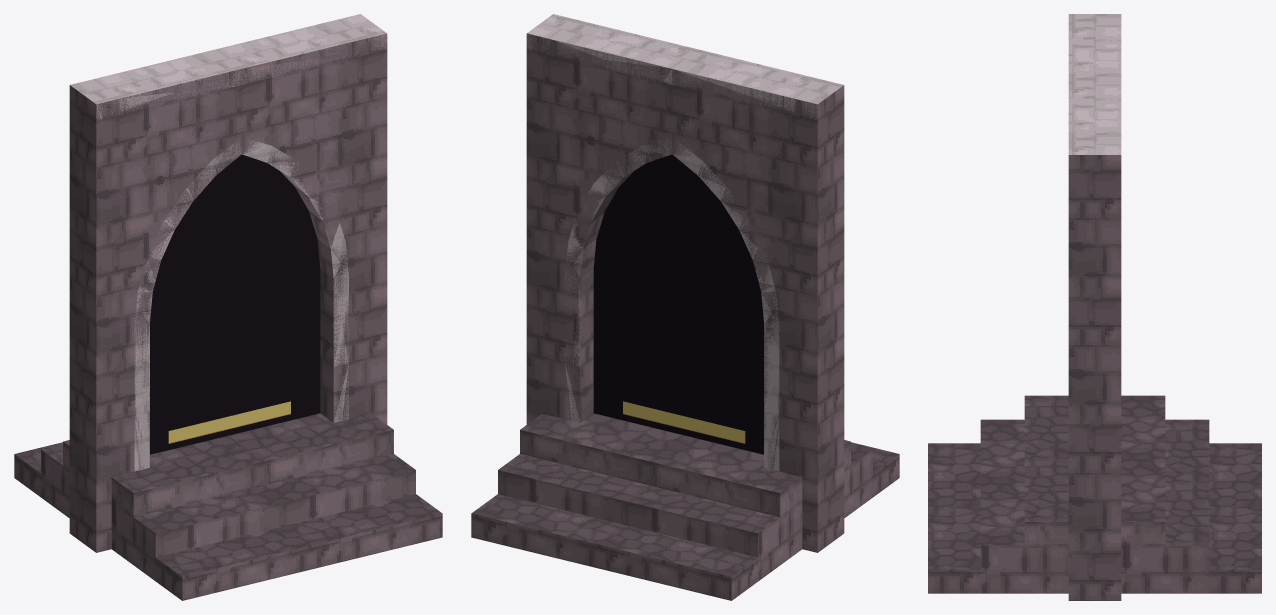
The model's file is stairs_abgang_c.glb.
The picture shows the model from 3 angles, left to right: view 1: azimuth 30°, elevation 25°; view 2: azimuth 150°, elevation 25°; view 3: azimuth 270°, elevation 25°; orthographic projection.
Visible parts, largest first — view 1: stairs, glow; view 2: stairs, glow; view 3: stairs.
Part boxes in pixels (x1,y1,x2,y2): stairs: [14, 14, 442, 600]; glow: [168, 401, 290, 443]; stairs: [471, 14, 899, 600]; glow: [623, 401, 745, 443]; stairs: [928, 14, 1261, 600].
Size of the model in its own units: 2.38 by 3.5 by 2.38.
1 material, 1 textured.
